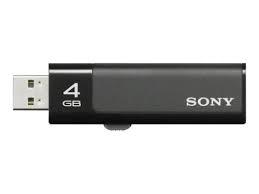pendrive: (9, 58, 248, 131)
